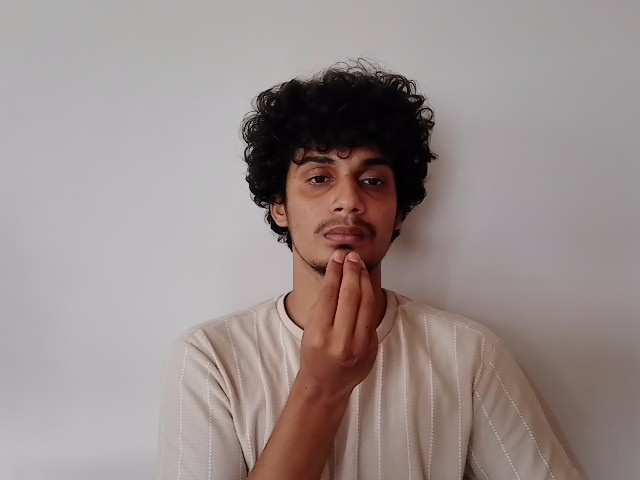eat: (257, 142, 403, 377)
